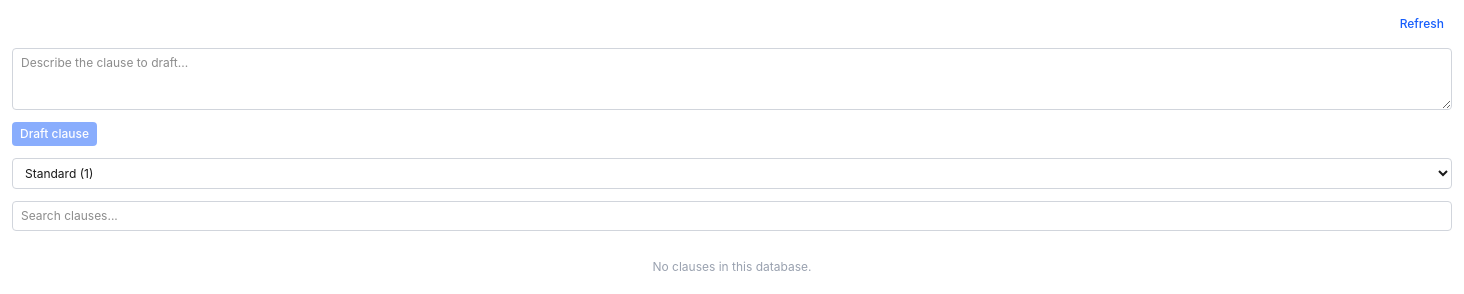
Test: ClausesPanel — paid tier › ignores a superseded database's clauses that resolve late
Select "Custom (1)" in the dropdown at {"x": 732, "y": 173}, box [12, 158, 1452, 188]
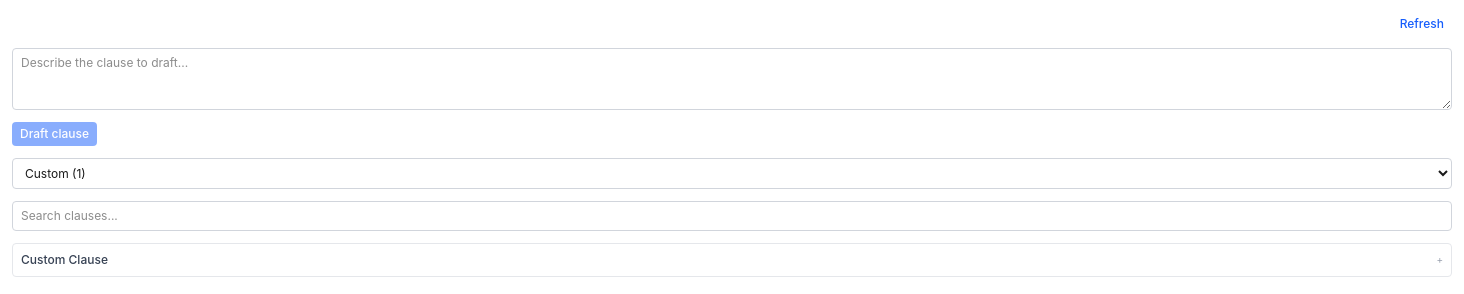
Expected: the button with aria-label "Refresh clauses" is enabled, [1392, 12, 1452, 36]
Expected: the text "Custom Clause" is shown, [21, 252, 108, 268]
